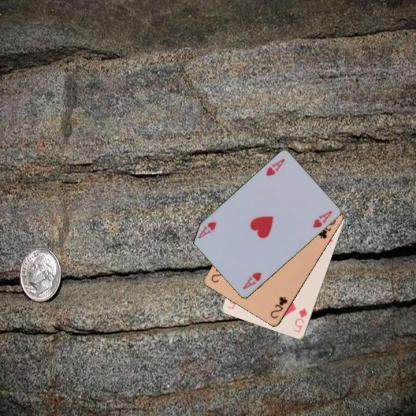2c: (267, 294, 289, 320)
5d: (290, 306, 309, 334)
Ah: (263, 156, 286, 179), (240, 270, 263, 290)
